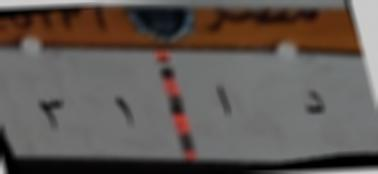1: (107, 95, 138, 132)
3: (34, 90, 74, 134)
alif: (209, 79, 236, 128)
daal: (298, 81, 328, 122)
